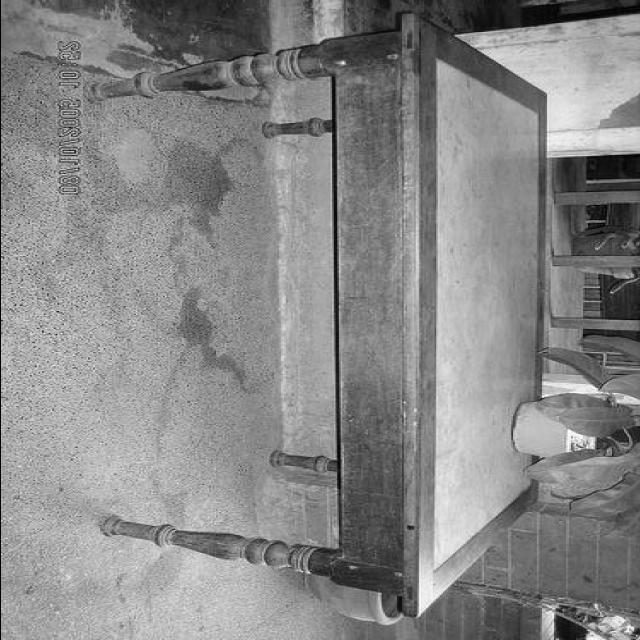table: (82, 14, 540, 613)
